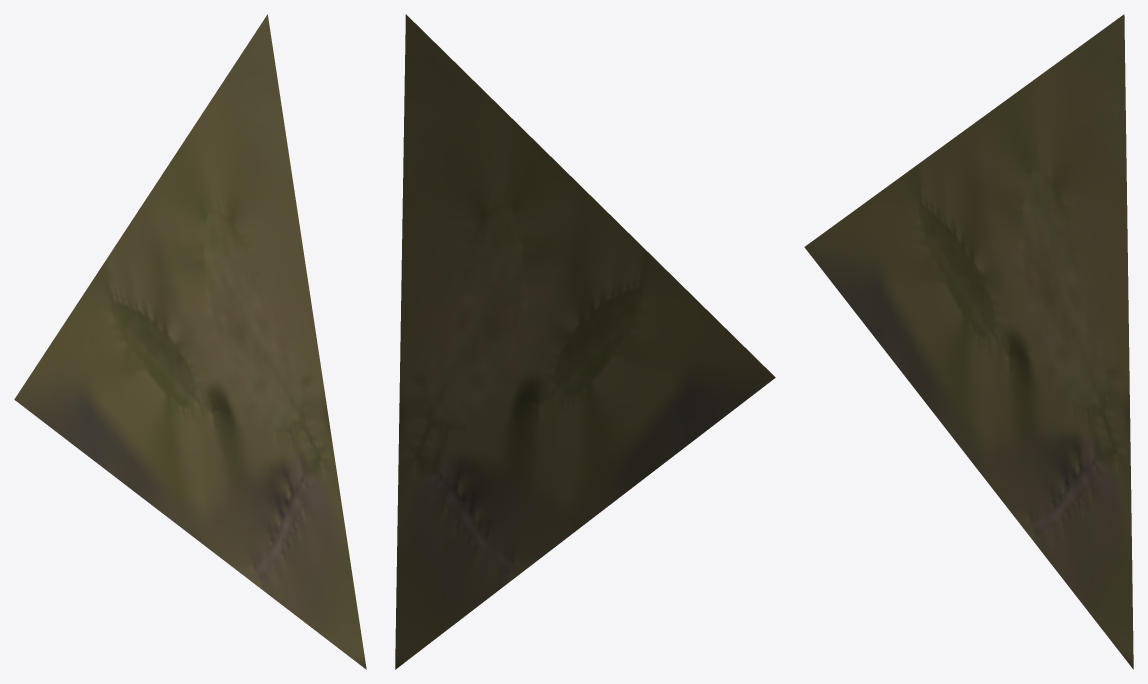
The model's file is Ground_Leafs_05.fbx.
3 renders of one model, left to right at view 1: azimuth 30°, elevation 25°; view 2: azimuth 150°, elevation 25°; view 3: azimuth 330°, elevation 25°, orthographic. The views are drawn at different scales.
Parts seen in each view (by area): view 1: Ground_Leafs_05; view 2: Ground_Leafs_05; view 3: Ground_Leafs_05.
Part boxes in pixels (x1,y1,x2,y2): Ground_Leafs_05: [14, 14, 366, 669]; Ground_Leafs_05: [395, 14, 775, 669]; Ground_Leafs_05: [804, 14, 1133, 669].
Bounding box in the file's own units: 0.3723 × 0.6515 × 0.0829.
